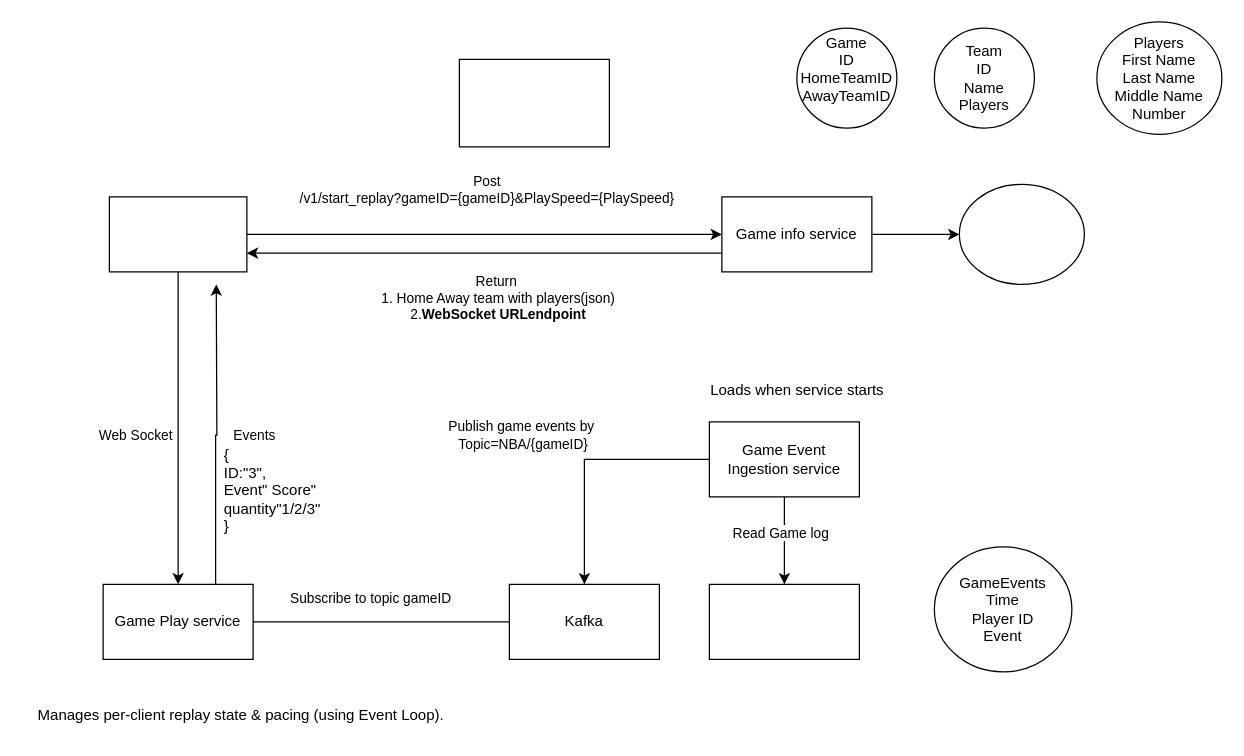
Some shapes in this 1244 by 756 pixel diagram are drawn without their labels. Each missing label, with the centre of its shape:
"Client" belongs at point (177, 234).
"Game Log store" belongs at point (783, 621).
"GameMetaData DB" belongs at point (1021, 233).
"PlaySpeed 48X 96X 192X" belongs at point (533, 102).
